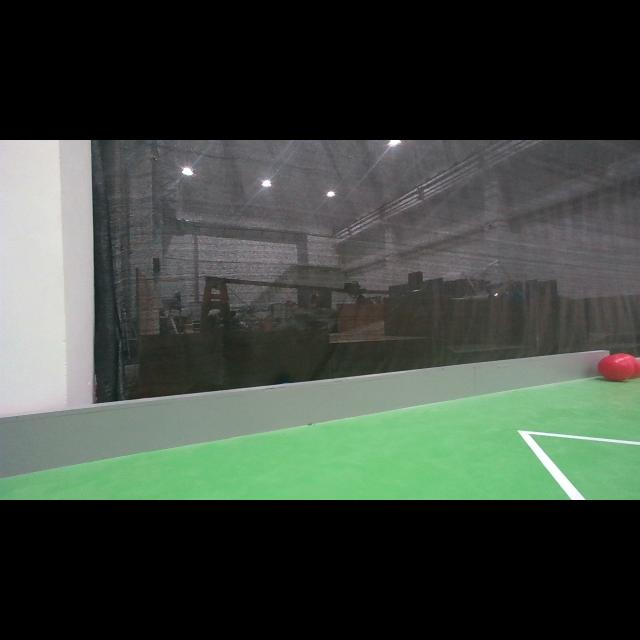R: (598, 356, 634, 380)
